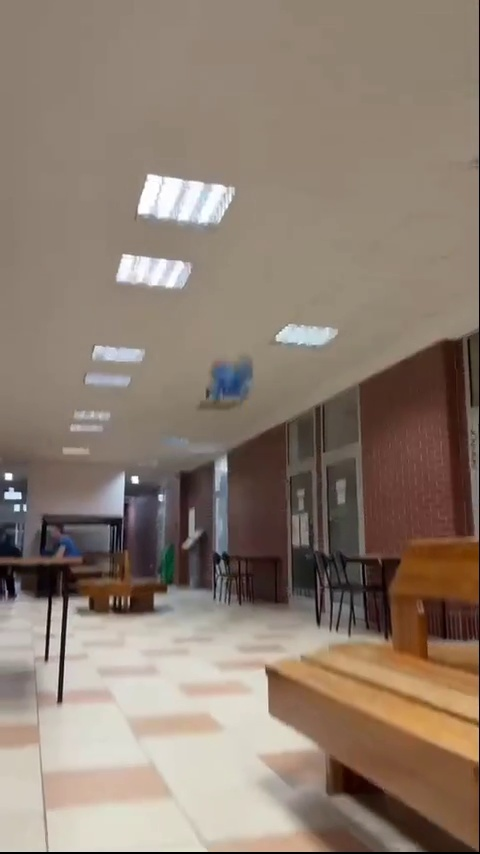drone: (201, 357, 260, 405)
no vest: (39, 518, 83, 584)
